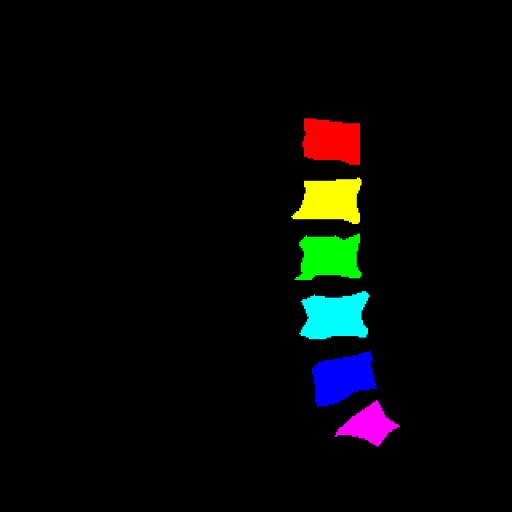L1: (302, 118, 360, 165)
L2: (292, 178, 362, 224)
L3: (295, 234, 362, 280)
L4: (300, 291, 369, 339)
L5: (312, 351, 376, 406)
S1: (335, 401, 399, 446)
